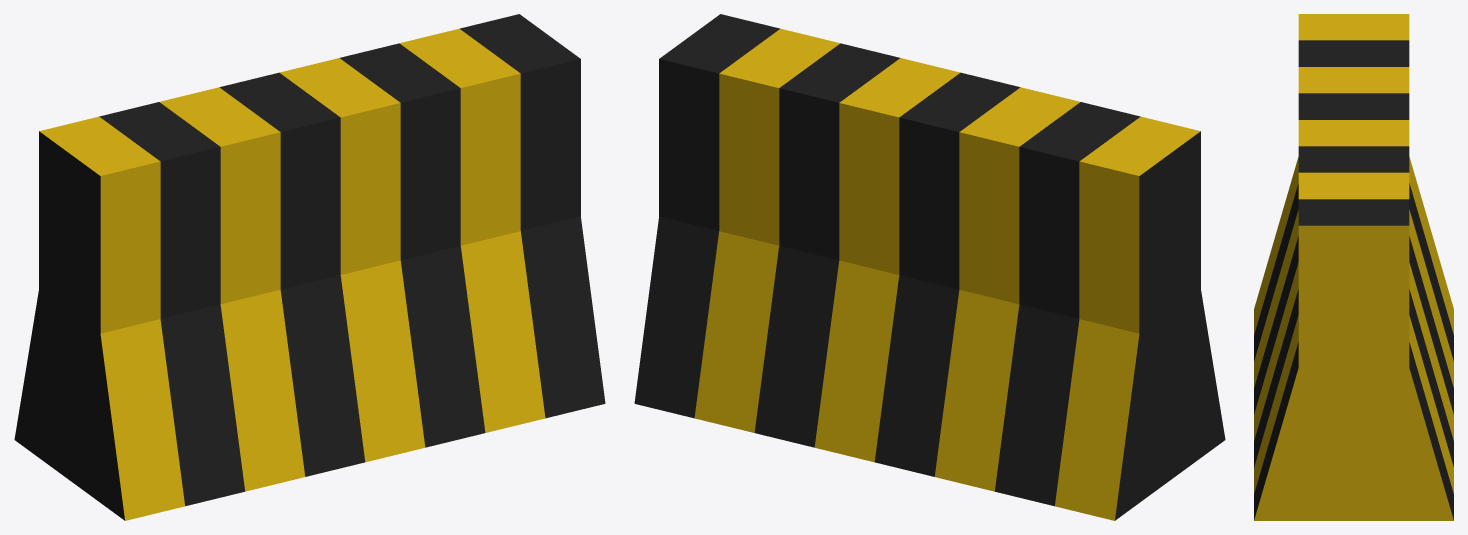
Rendered from TrafficBarrier_03.fbx.
3 renders of one model, left to right at view 1: azimuth 30°, elevation 25°; view 2: azimuth 150°, elevation 25°; view 3: azimuth 270°, elevation 25°, orthographic. The views are drawn at different scales.
Visible parts, largest first — view 1: TrafficBarrier_03; view 2: TrafficBarrier_03; view 3: TrafficBarrier_03.
Boxes of the visible parts, x1,y1,x2,y2 form: TrafficBarrier_03: (14,14,605,520); TrafficBarrier_03: (634,14,1225,520); TrafficBarrier_03: (1254,14,1453,520).
Bounding box in the file's own units: 1271 × 826 × 507.
